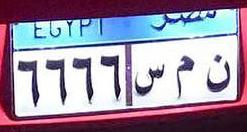6: (71, 52, 96, 106), (99, 50, 124, 99), (45, 56, 69, 107), (16, 56, 40, 107)
meem: (171, 49, 197, 100)
noon: (204, 52, 231, 96)
seen: (132, 62, 166, 99)
